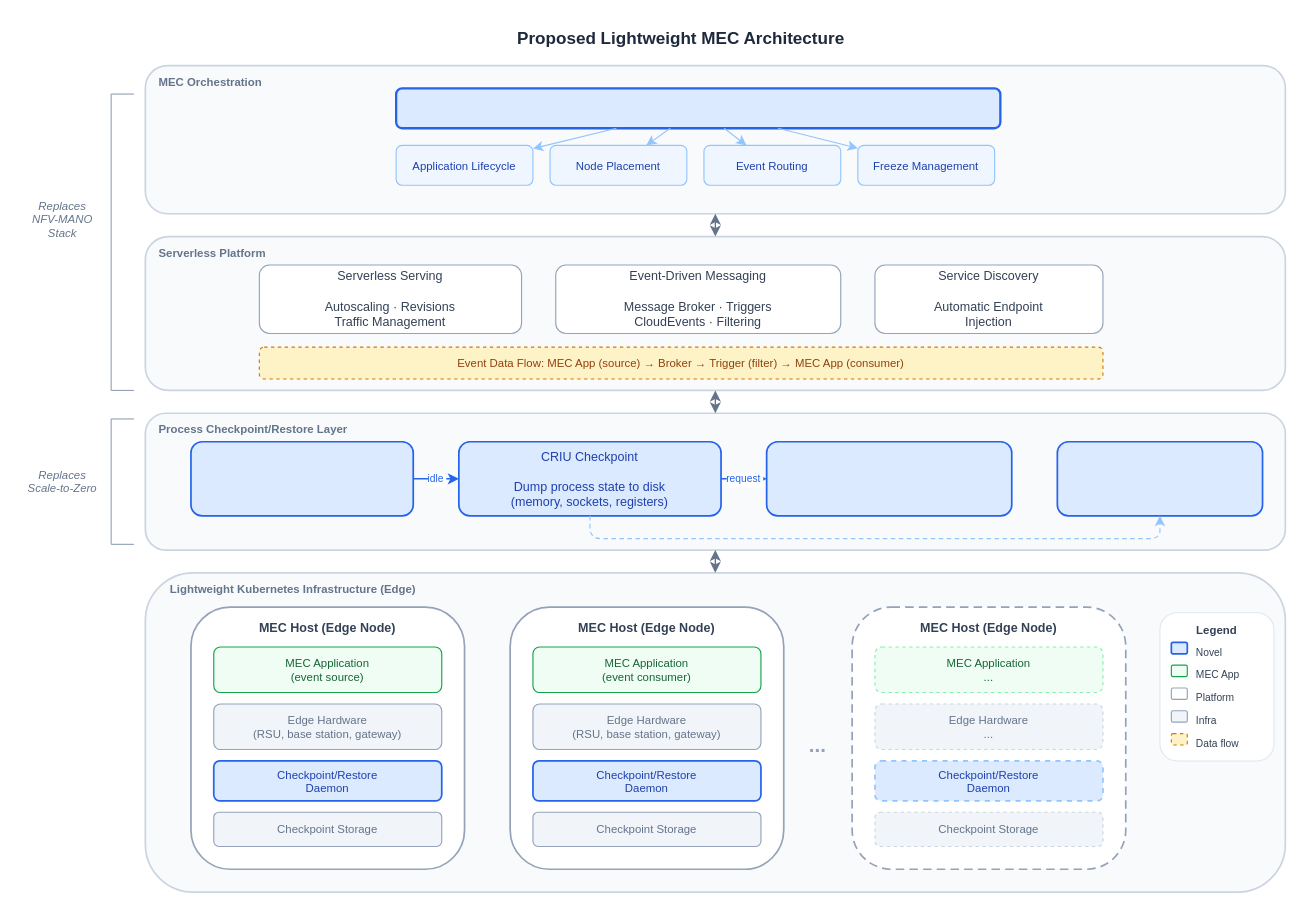
Some shapes in this 1305 by 912 pixel diagram are drawn without their labels. The box of each missing label's shape, as (x1, y1, x2, y2) in pixels:
Idle Detection Queue-proxy plugin monitors request activity: (190, 440, 414, 516)
MEC Operator (CRD-based Controller): (394, 87, 1001, 129)
Readiness Preservation Fake listener keeps pod reachable while frozen: (1056, 440, 1263, 516)
Transparent Restore On incoming request, restore process before forwarding: (765, 440, 1012, 516)
